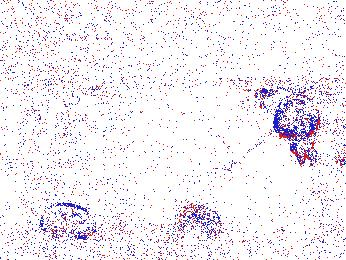flame jellyfish: (274, 92, 321, 166), (39, 203, 101, 250), (175, 204, 229, 247)
